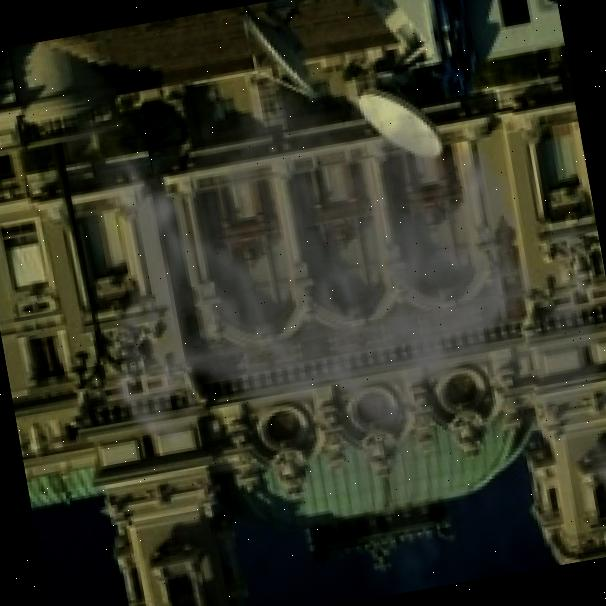smoke: (53, 5, 606, 606)
